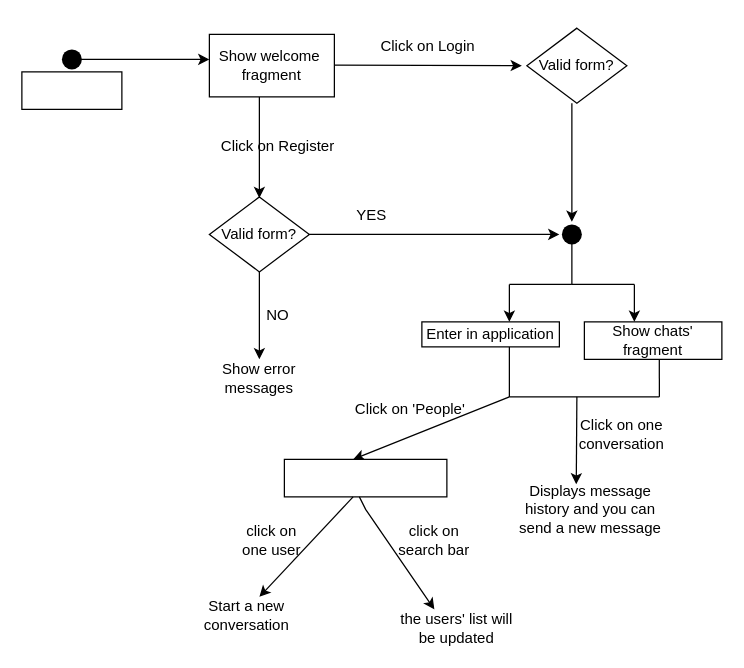
The diagram is 744 pixels wide and 668 high, and some of its shapes have lost their labels. Here are the shapes that lost their labels. From the top down, the box of each, then its label:
(21, 71, 122, 109): Start process
(283, 458, 447, 497): Show people's' fragemnt
